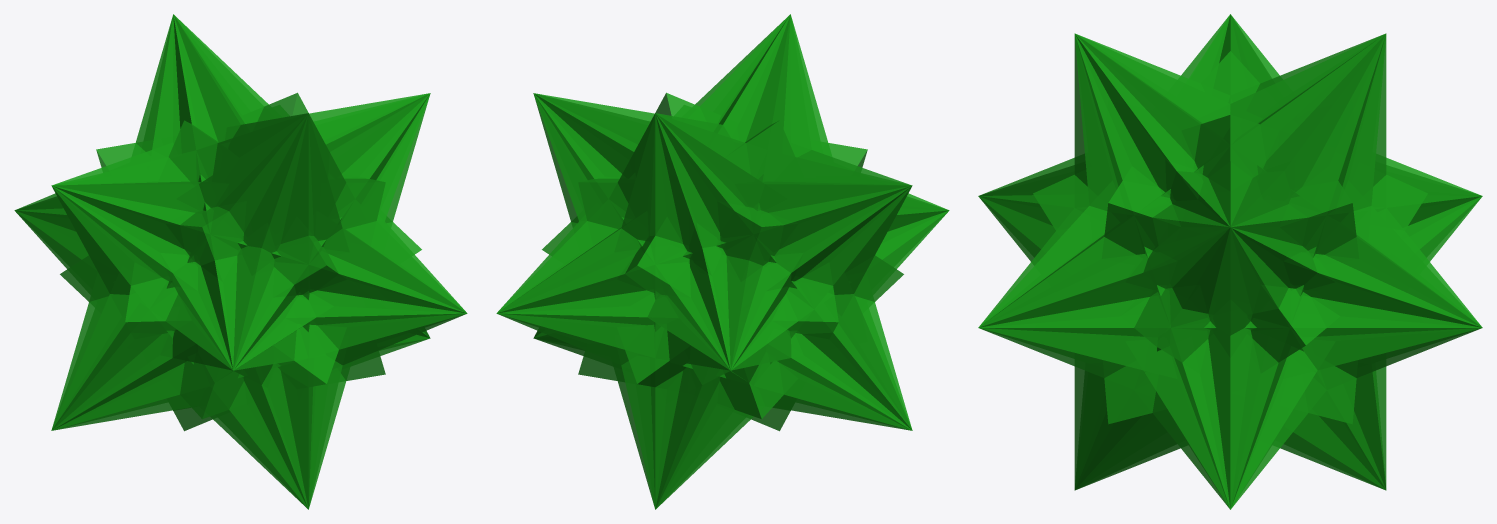
Rendered from fractalgreattriakisicosahedron0.glb.
The picture shows the model from 3 angles, left to right: view 1: azimuth 30°, elevation 25°; view 2: azimuth 150°, elevation 25°; view 3: azimuth 270°, elevation 25°; orthographic projection. The views are drawn at different scales.
Bounding box in the file's own units: 10.34 × 10.34 × 10.34.
